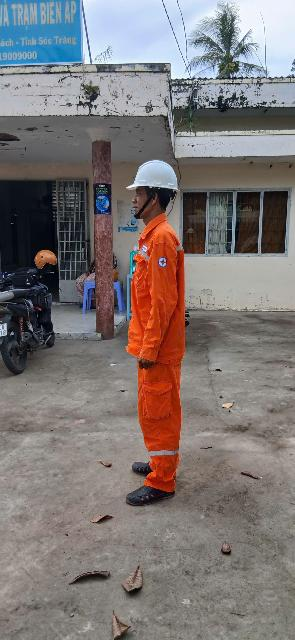helmet: (128, 153, 180, 204)
shoes: (123, 482, 178, 512), (121, 453, 168, 478)
